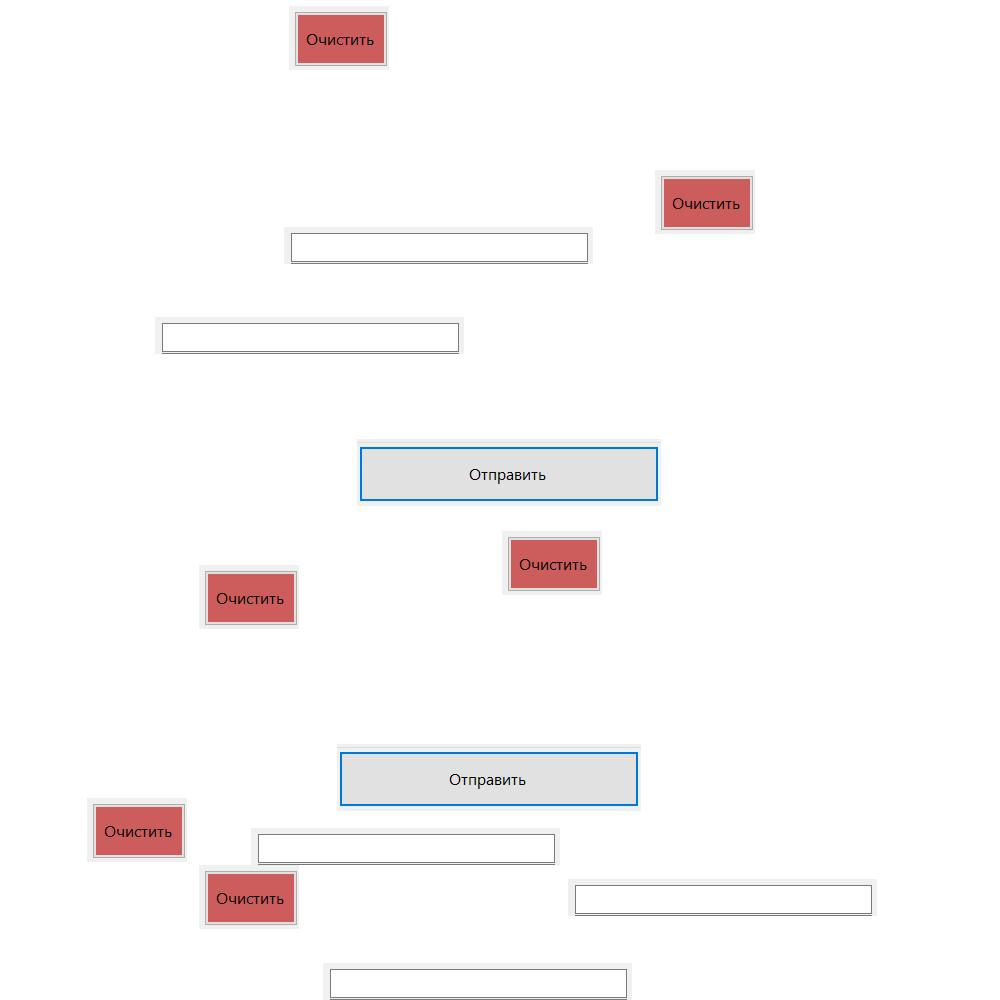Button: (357, 439, 661, 506), (337, 744, 641, 811), (199, 865, 299, 929), (289, 6, 389, 70), (502, 531, 602, 595), (655, 170, 755, 234), (87, 798, 187, 862), (199, 565, 299, 629)
EditText-: (284, 227, 593, 264), (568, 879, 877, 916), (251, 828, 560, 865), (323, 963, 632, 1000), (155, 317, 464, 354)
